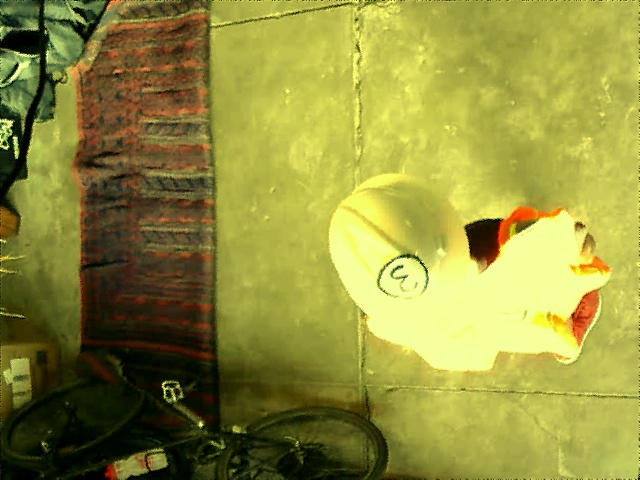three: (375, 253, 427, 300)
